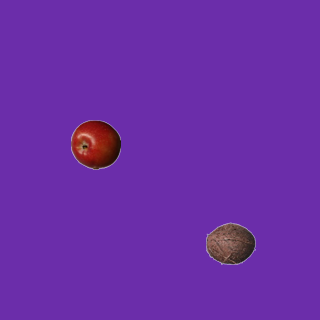Apple Braeburn: (70, 119, 120, 169)
Cocos: (205, 218, 255, 268)
